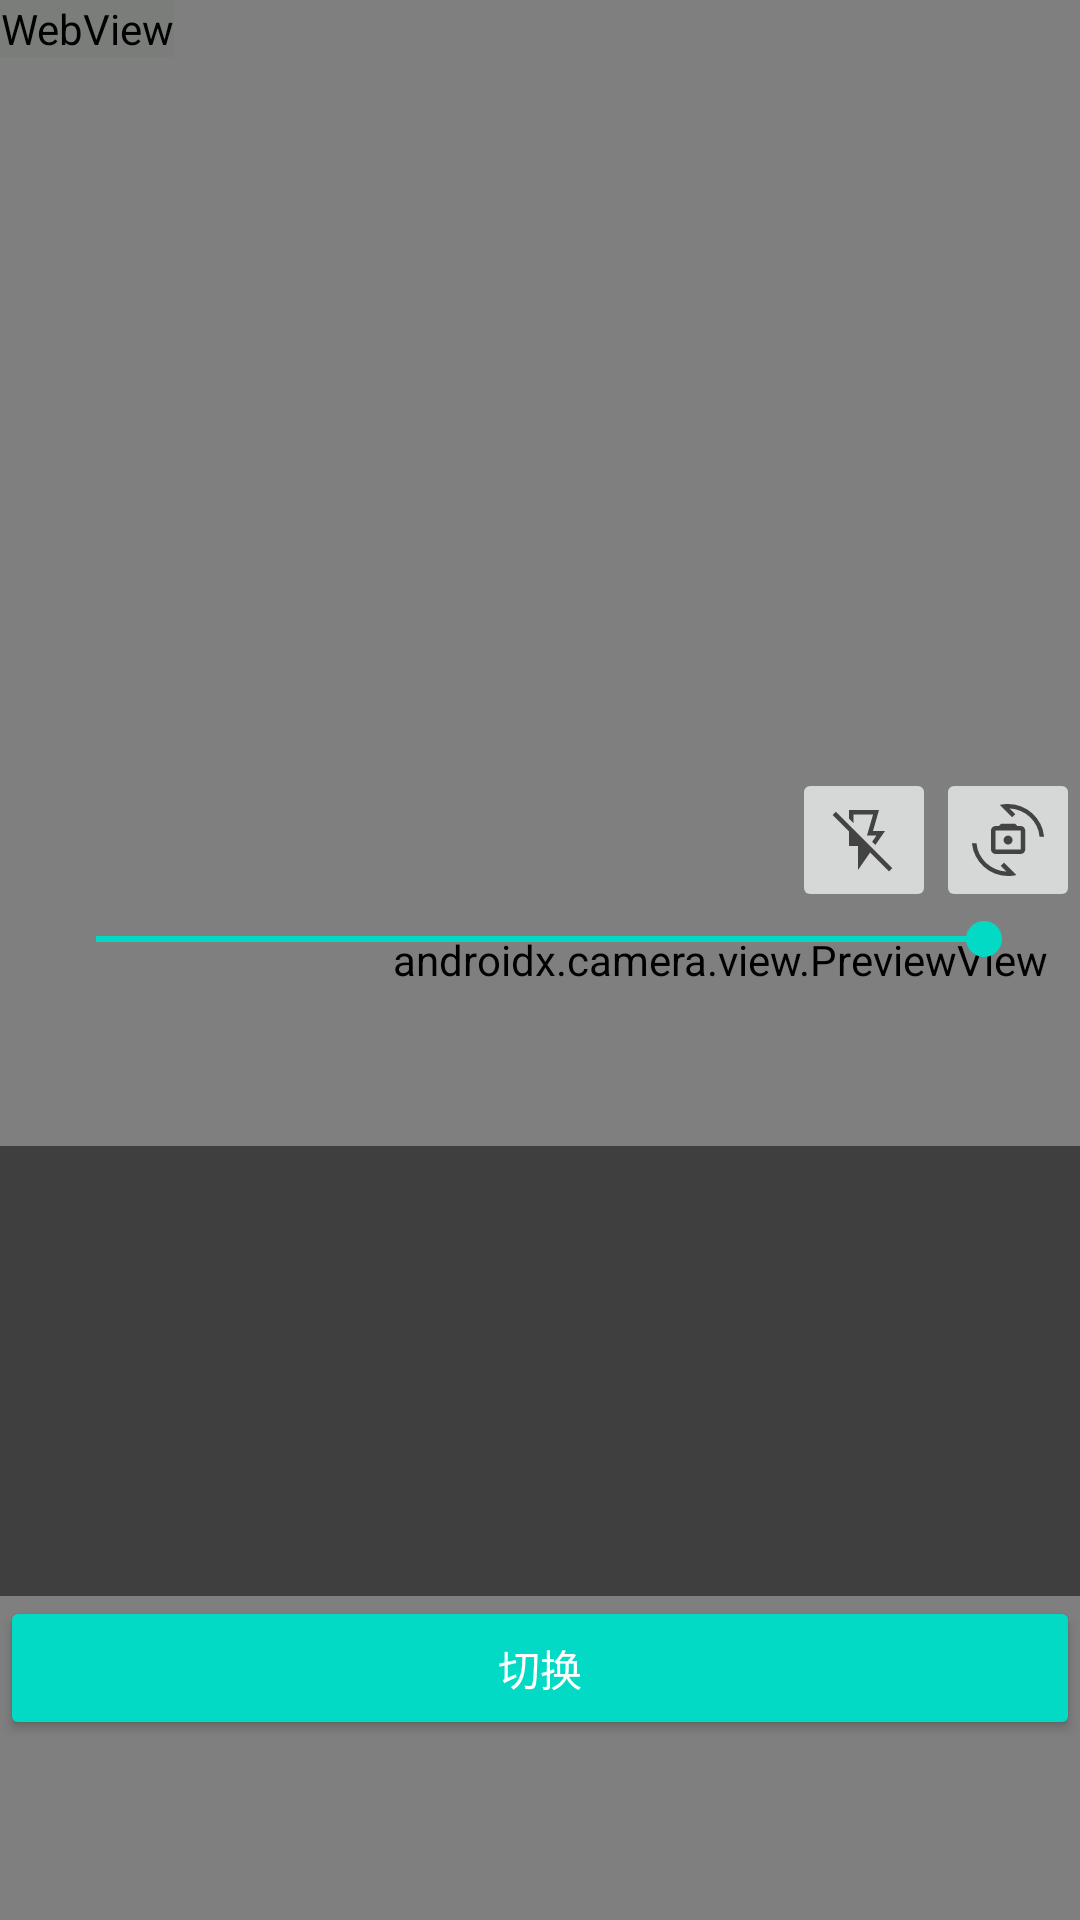

Point at icon controls on the screen. Image size 1080x1920, points as [x,y].
cameraswitch: [1008,840]
flash off: [864,840]
